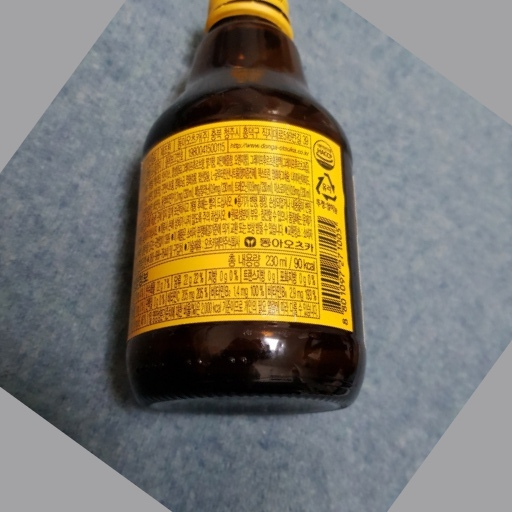Glass_3: (115, 3, 368, 420)
